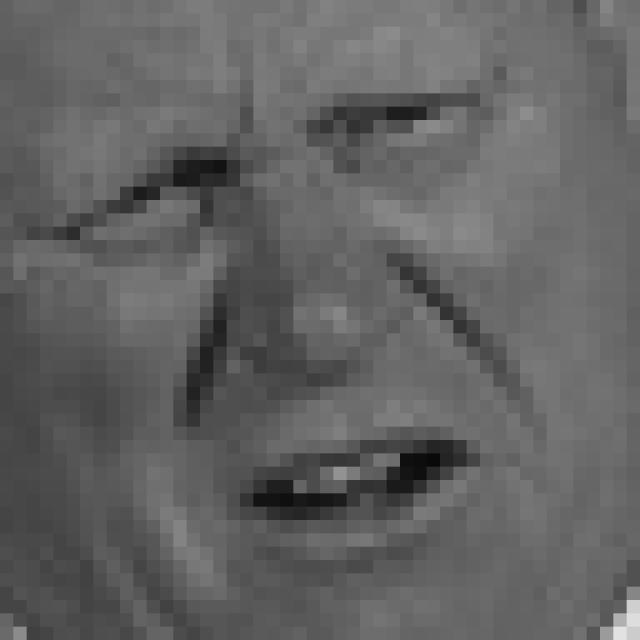disgust: (32, 29, 579, 585)
